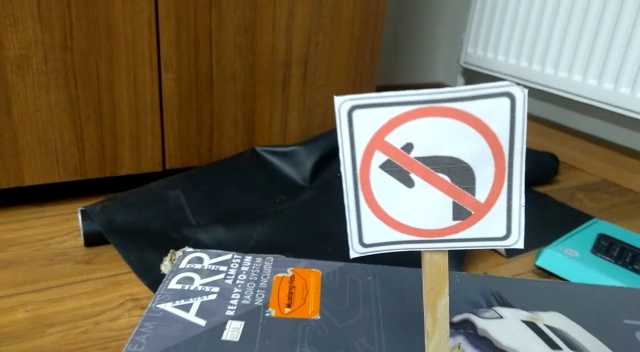sola_donulmez: (363, 89, 517, 245)
